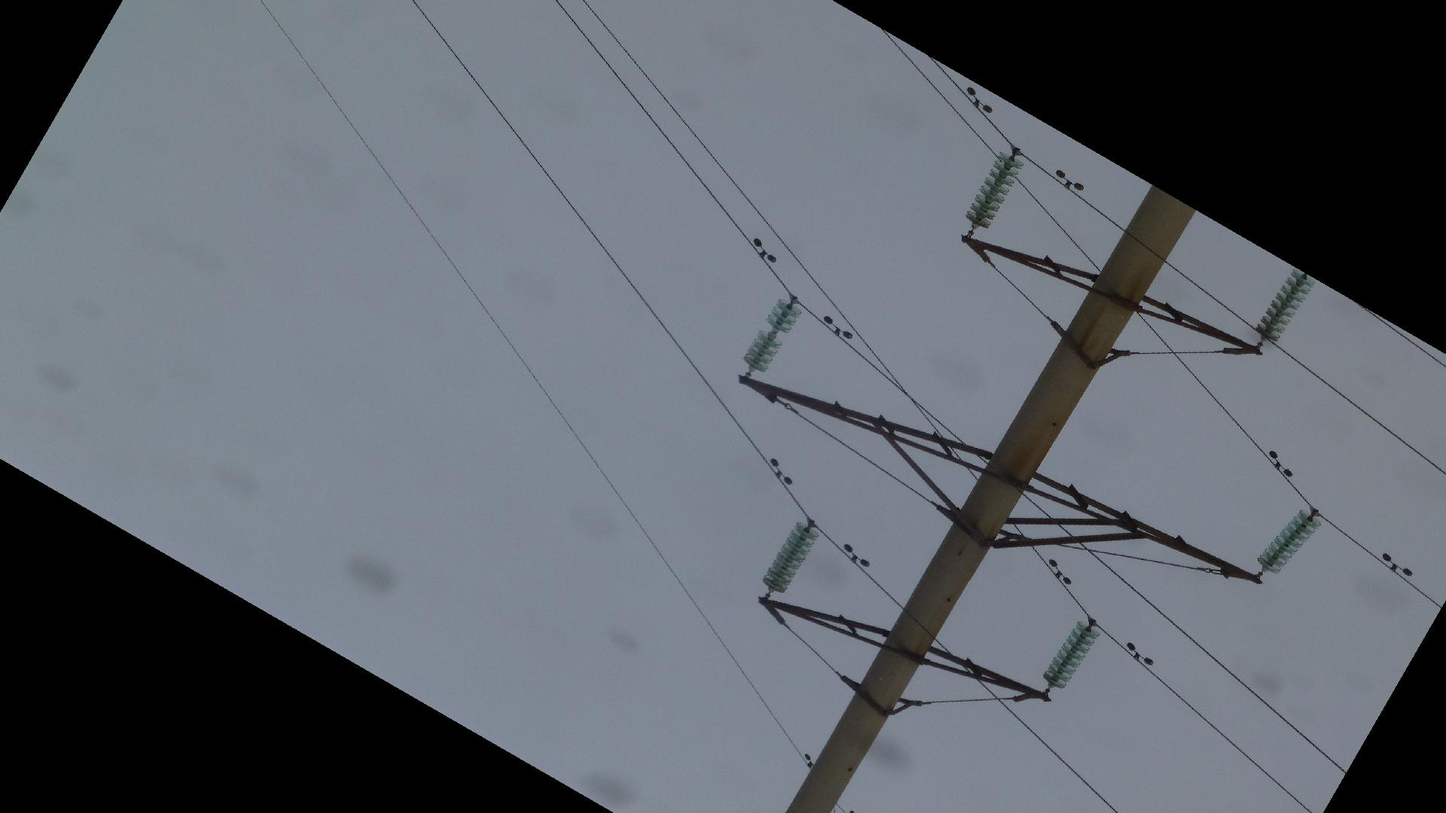insulator: (961, 147, 1026, 232), (1250, 266, 1316, 346), (758, 516, 821, 595), (740, 297, 802, 374), (1254, 504, 1321, 575), (1040, 617, 1102, 693)
insulator_stringdrop: (755, 312, 793, 350)
